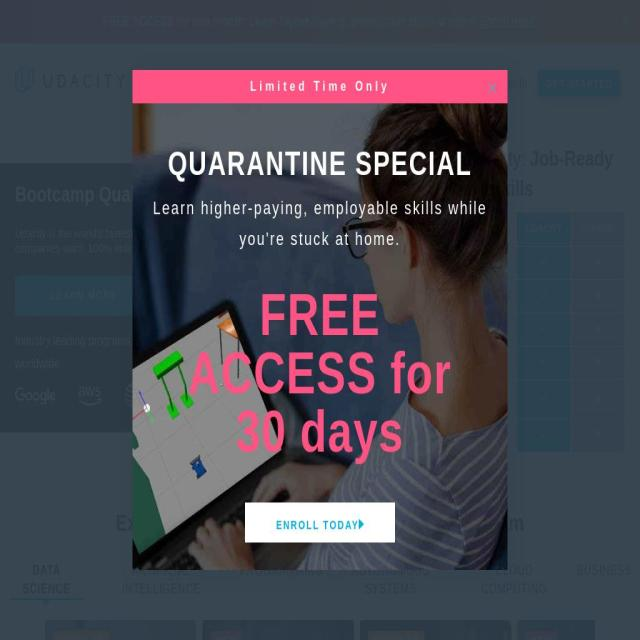button: (103, 10, 535, 33), (245, 502, 395, 542), (15, 275, 153, 316), (45, 620, 197, 640), (202, 620, 354, 640), (360, 620, 512, 640), (384, 68, 474, 98), (517, 620, 640, 640), (538, 70, 621, 97), (218, 68, 286, 98), (305, 68, 366, 98), (494, 68, 529, 98), (604, 620, 639, 640), (622, 1, 630, 42)
heading: (80, 512, 560, 535), (491, 146, 614, 201), (96, 562, 226, 598), (329, 562, 452, 598), (15, 181, 177, 207), (465, 562, 564, 598), (410, 146, 530, 171), (10, 562, 83, 598), (209, 181, 299, 207), (240, 562, 316, 580), (577, 562, 630, 580), (178, 181, 210, 207)
image: (0, 0, 640, 640), (478, 70, 508, 570), (15, 68, 127, 94), (124, 375, 167, 413), (15, 375, 56, 413), (189, 375, 222, 413), (77, 375, 102, 413), (243, 375, 260, 413), (540, 288, 548, 300), (622, 16, 630, 27), (540, 255, 548, 266), (540, 355, 548, 366), (540, 322, 548, 332), (540, 392, 548, 402), (540, 428, 548, 438), (272, 82, 280, 89), (459, 82, 467, 89), (359, 519, 364, 529), (352, 82, 359, 89)
link: (480, 14, 536, 28)
text: (160, 244, 480, 503), (15, 328, 327, 376), (132, 138, 508, 172), (132, 70, 508, 103), (132, 192, 508, 224), (15, 225, 327, 256), (102, 14, 480, 28), (398, 379, 518, 418), (398, 279, 518, 313), (398, 312, 518, 346), (398, 418, 518, 452), (398, 246, 518, 279), (398, 346, 518, 379), (571, 379, 625, 418), (517, 212, 571, 246), (571, 212, 625, 246), (571, 279, 625, 313), (571, 312, 625, 346), (571, 418, 625, 452), (571, 246, 625, 279), (571, 346, 625, 379), (276, 518, 358, 532), (390, 77, 454, 91), (224, 77, 268, 91), (52, 630, 110, 640), (367, 630, 425, 640), (312, 77, 348, 91), (210, 630, 242, 640), (526, 630, 558, 640)
